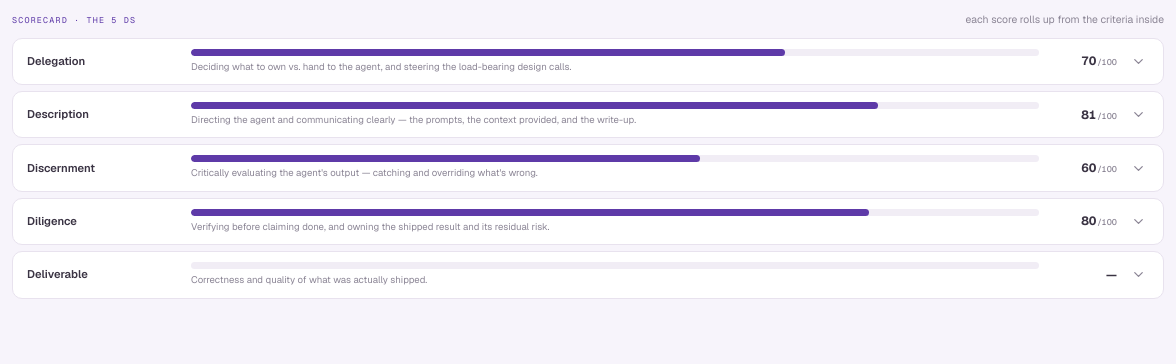
it: AssessmentScorecard › never claims "not graded" under an axis that carries a rubric score
Click the button "Description" at (588, 115), box [13,92,1163,137]
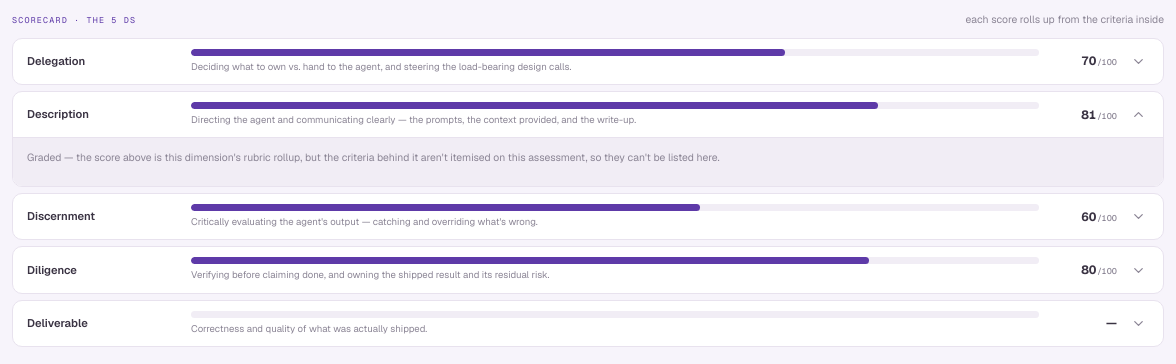
Check: the text "Graded — the score above is this dimension" is shown, box [27,151,720,164]
